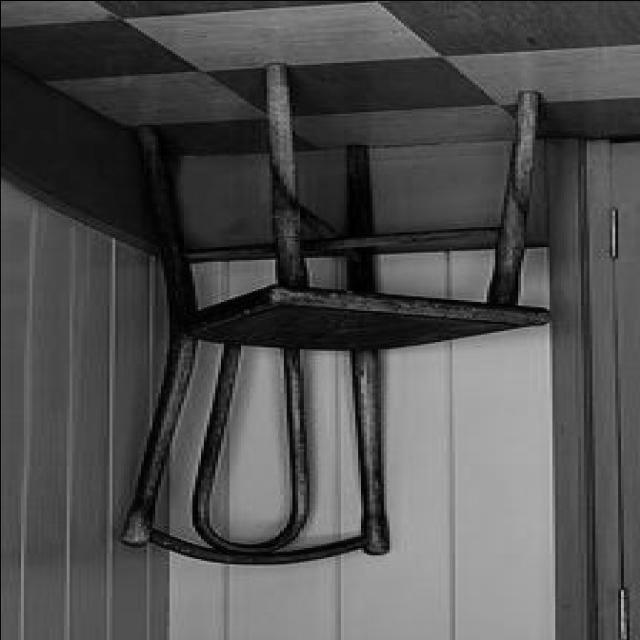chair: (74, 64, 548, 568)
